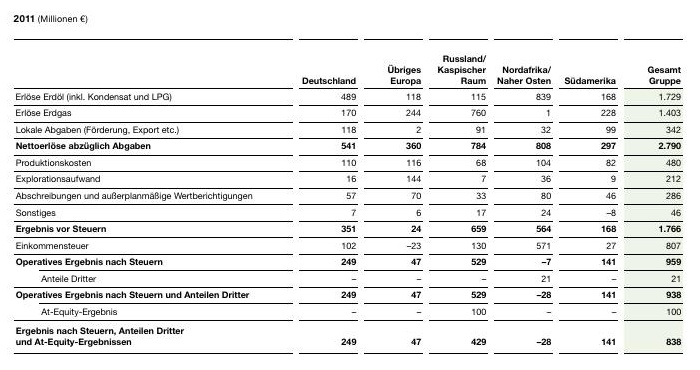table: (0, 0, 700, 370)
